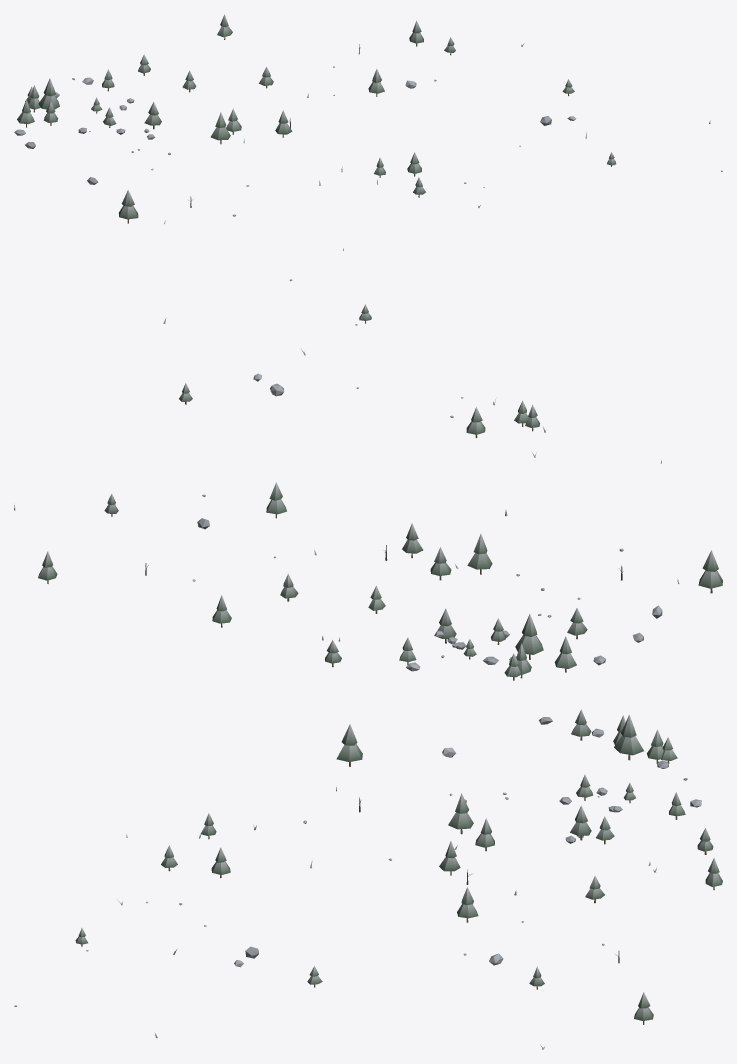
File: frost_land_scatter_c16_11_lod1.glb
3 views of the same model, one above another, from view 1: azimuth 30°, elevation 25°; view 2: azimuth 150°, elevation 25°; view 3: azimuth 270°, elevation 25° (orthographic). The views are drawn at different scales.
Visible parts, largest first — view 1: frost_land_scatter_c16_11_lod1; view 2: frost_land_scatter_c16_11_lod1; view 3: frost_land_scatter_c16_11_lod1.
Part boxes in pixels (bbox=[...]): frost_land_scatter_c16_11_lod1: bbox=[14, 14, 722, 250]; frost_land_scatter_c16_11_lod1: bbox=[14, 279, 722, 680]; frost_land_scatter_c16_11_lod1: bbox=[14, 709, 722, 1049].
Size of the model in its own units: 248 by 30.05 by 227.
